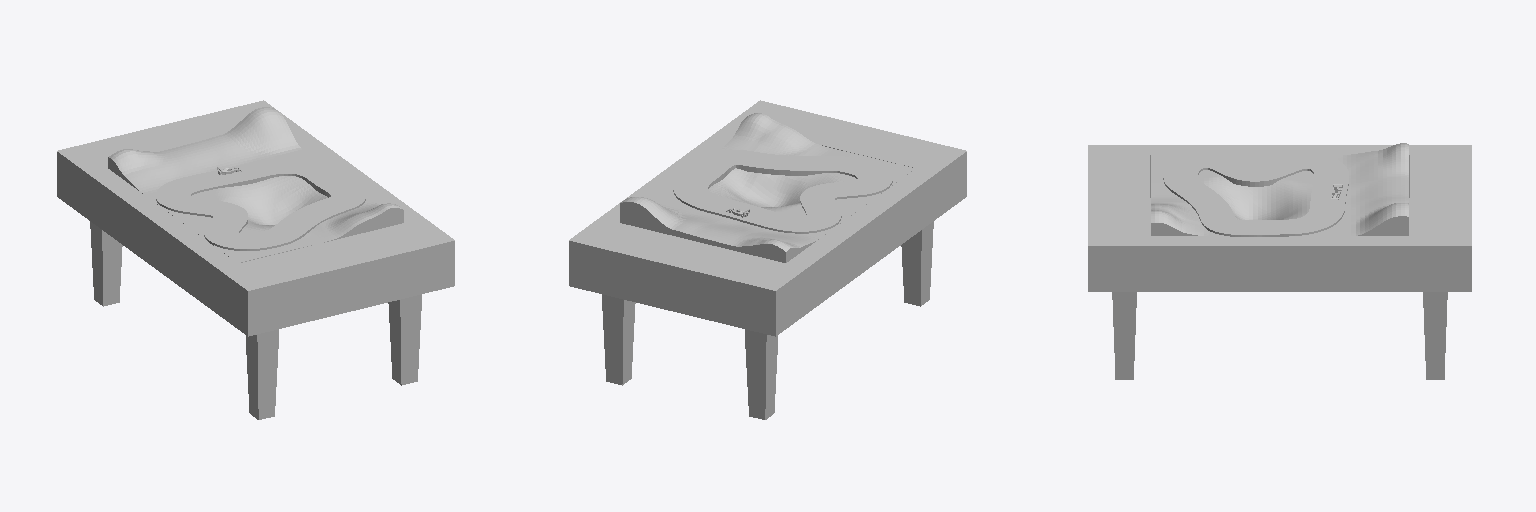
File: NewestTisch2.obj
3 renders of one model, left to right at view 1: azimuth 30°, elevation 25°; view 2: azimuth 150°, elevation 25°; view 3: azimuth 270°, elevation 25°, orthographic.
Parts seen in each view (by area): view 1: Tischplatte_wood_table_001, Landschaft_aerial_grass_rock, off, Bein1_wood_table_001, Bein4_wood_table_001.003, Bein3_wood_table_001.002; view 2: Tischplatte_wood_table_001, Landschaft_aerial_grass_rock, off, Bein2_wood_table_001.001, Bein3_wood_table_001.002, Bein4_wood_table_001.003; view 3: Tischplatte_wood_table_001, Landschaft_aerial_grass_rock, off, Bein1_wood_table_001, Bein2_wood_table_001.001.
Boxes of the visible parts, x1,y1,x2,y2 form: Tischplatte_wood_table_001: [57, 100, 454, 336]; Landschaft_aerial_grass_rock: [108, 107, 403, 262]; off: [156, 159, 365, 250]; Bein1_wood_table_001: [388, 294, 421, 385]; Bein4_wood_table_001.003: [246, 329, 278, 419]; Bein3_wood_table_001.002: [90, 221, 122, 306]; Tischplatte_wood_table_001: [569, 100, 966, 336]; Landschaft_aerial_grass_rock: [620, 113, 915, 262]; off: [673, 150, 892, 233]; Bein2_wood_table_001.001: [602, 294, 635, 385]; Bein3_wood_table_001.002: [745, 329, 777, 419]; Bein4_wood_table_001.003: [901, 221, 933, 306]; Tischplatte_wood_table_001: [1088, 145, 1471, 291]; Landschaft_aerial_grass_rock: [1151, 143, 1408, 235]; off: [1163, 153, 1348, 236]; Bein1_wood_table_001: [1112, 292, 1136, 379]; Bein2_wood_table_001.001: [1423, 292, 1447, 379].
Size of the model in its own units: 5 by 3.91 by 8.